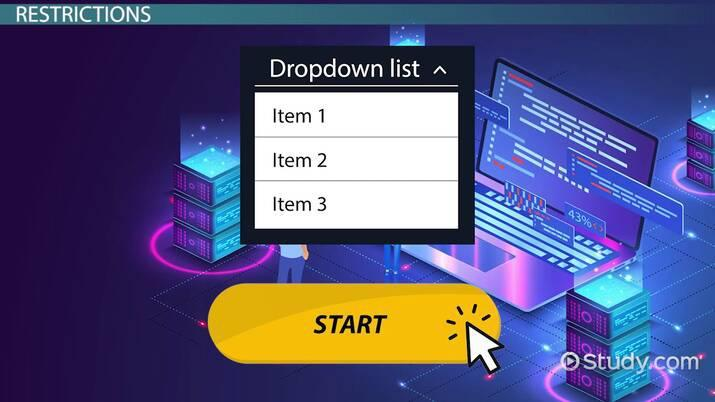button: (208, 283, 503, 365), (257, 182, 458, 229), (257, 94, 459, 138), (256, 136, 458, 180)
icon: (431, 64, 451, 79)
